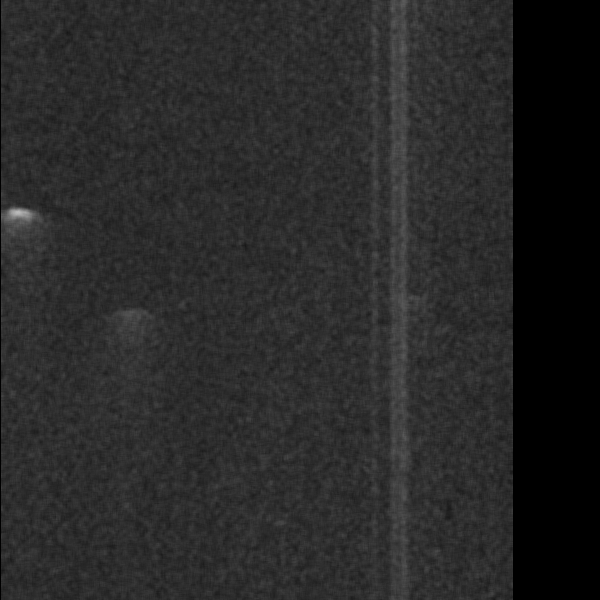spark: (108, 302, 152, 361), (3, 205, 41, 240)
